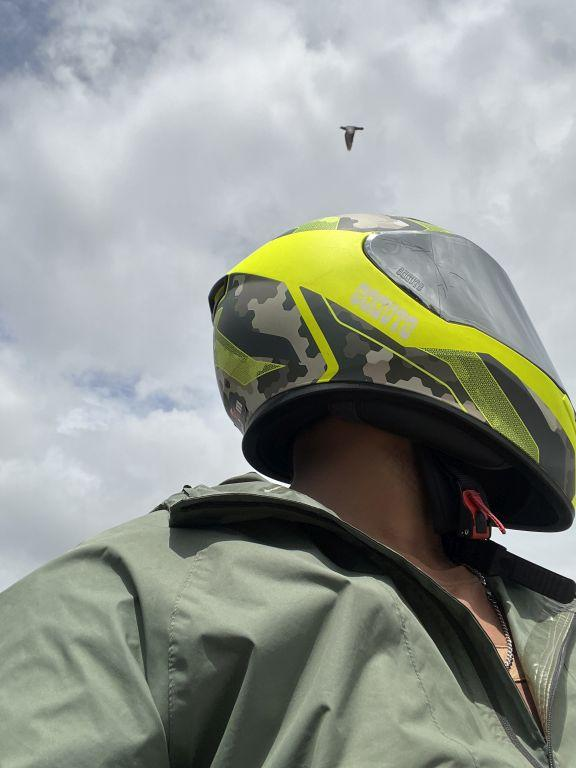helmet: (187, 190, 576, 541)
